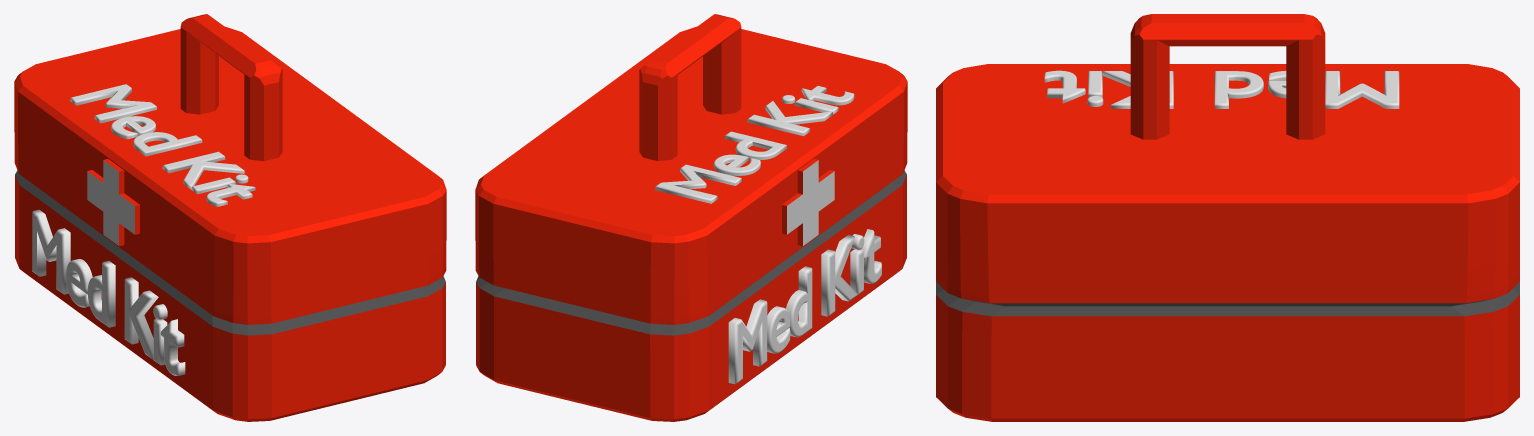
Rendered from Med Kit.fbx.
The picture shows the model from 3 angles, left to right: view 1: azimuth 30°, elevation 25°; view 2: azimuth 150°, elevation 25°; view 3: azimuth 270°, elevation 25°; orthographic projection. The views are drawn at different scales.
Parts seen in each view (by area): view 1: Cube; view 2: Cube; view 3: Cube.
Part boxes in pixels (x1=…): Cube: x1=14, y1=14, x2=446, y2=421; Cube: x1=475, y1=14, x2=907, y2=421; Cube: x1=936, y1=14, x2=1519, y2=421.
Bounding box in the file's own units: 0.3714 × 0.4159 × 0.6492.
